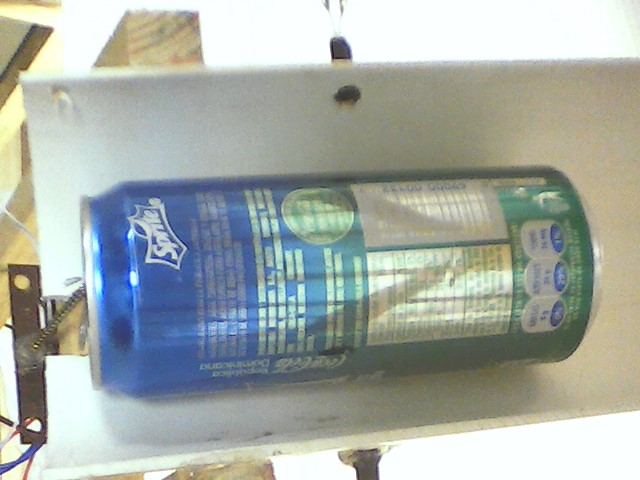lata: (76, 162, 610, 405)
